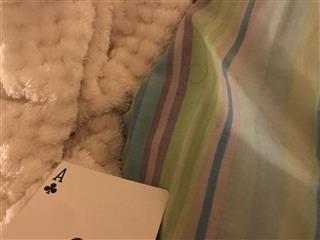AceOfClubs: (1, 160, 169, 240)
